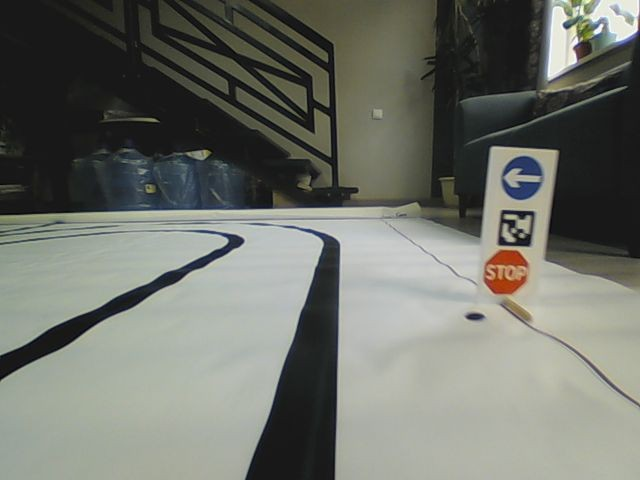Stop: (482, 248, 530, 295)
